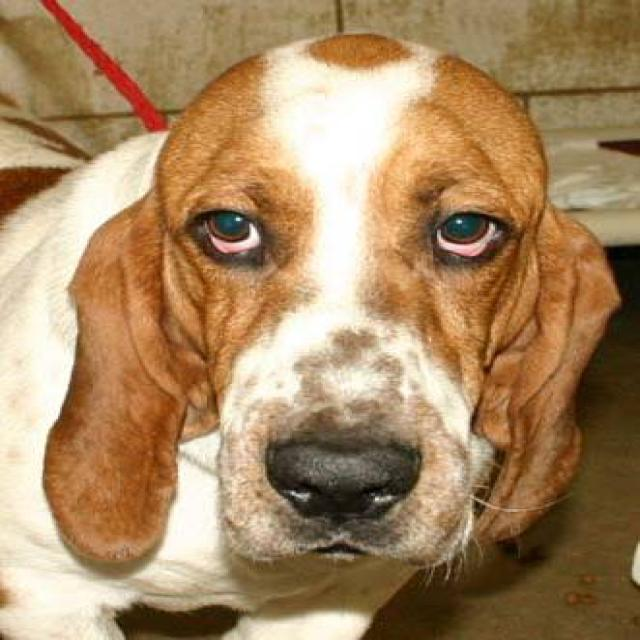dog: (0, 29, 623, 639)
